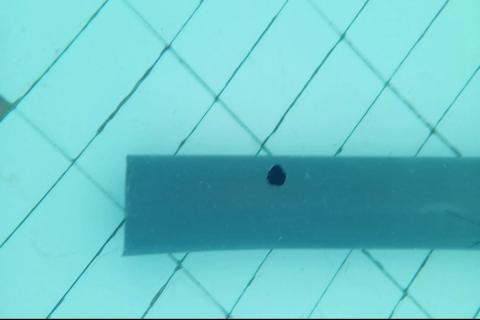kebocoran: (266, 161, 287, 188)
keretakan: (444, 208, 479, 248)
